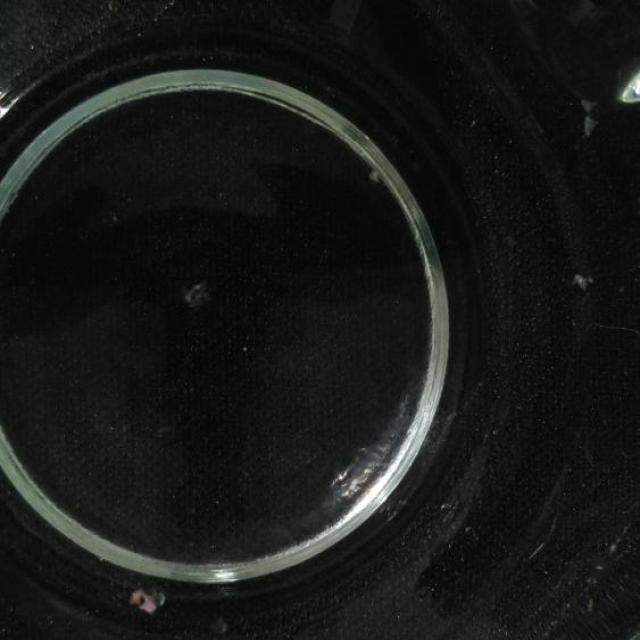fiber: (128, 582, 175, 620), (574, 93, 606, 138), (572, 262, 604, 296), (185, 282, 213, 316)
